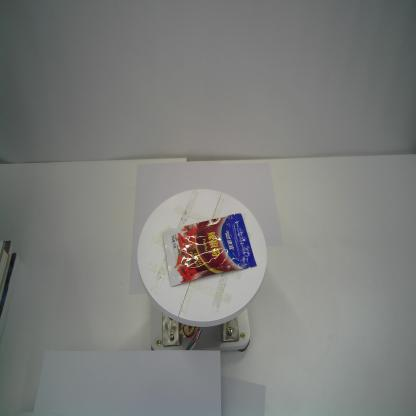Seasoner: (162, 214, 257, 287)
